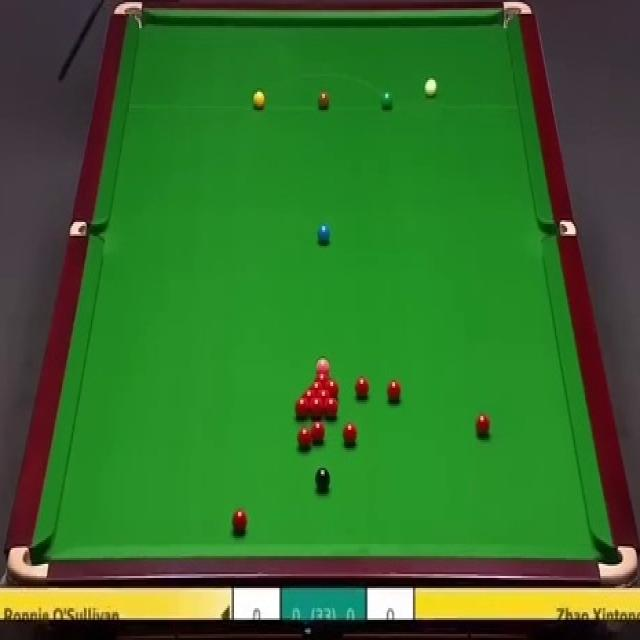black-ball: (314, 468, 330, 494)
blue-ball: (316, 222, 330, 243)
brown-ball: (316, 91, 329, 110)
green-ball: (380, 89, 393, 110)
pink-ball: (315, 356, 330, 371)
red-ball: (474, 413, 491, 437), (231, 509, 247, 534), (295, 427, 312, 450), (387, 379, 402, 405), (354, 377, 370, 399), (309, 397, 325, 419), (342, 422, 357, 445), (296, 396, 310, 419), (310, 423, 326, 442), (324, 398, 339, 418), (323, 381, 338, 398), (314, 372, 331, 382), (309, 382, 324, 390), (302, 389, 316, 397)
white-ball: (424, 78, 440, 97)
yellow-ball: (253, 90, 265, 110)
